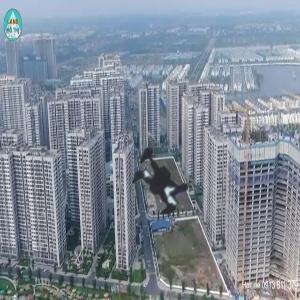drone: (95, 115, 229, 249)
